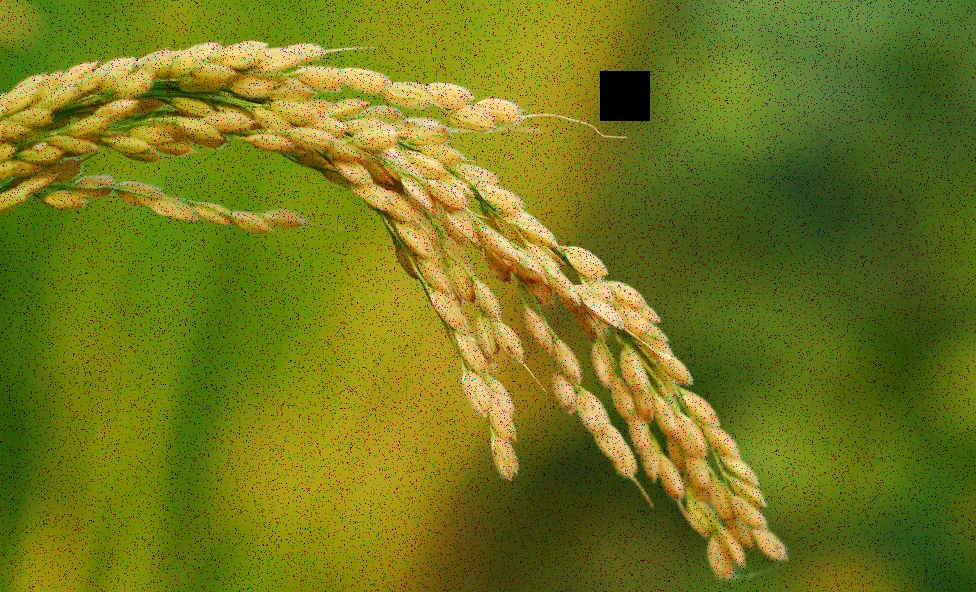rice: (1, 6, 804, 579)
